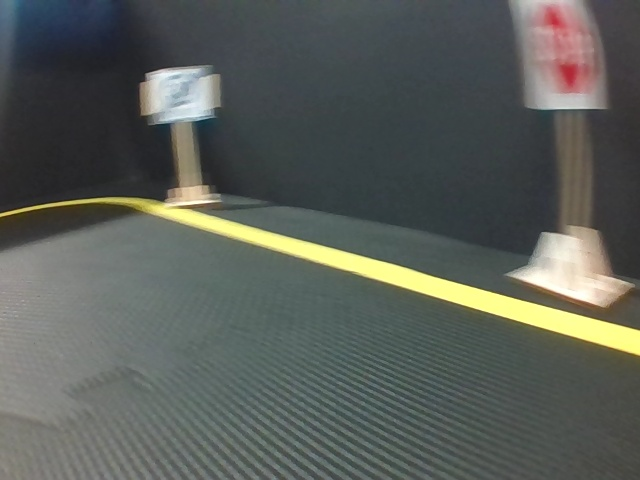no30: (151, 69, 210, 116)
stop: (519, 1, 604, 114)
